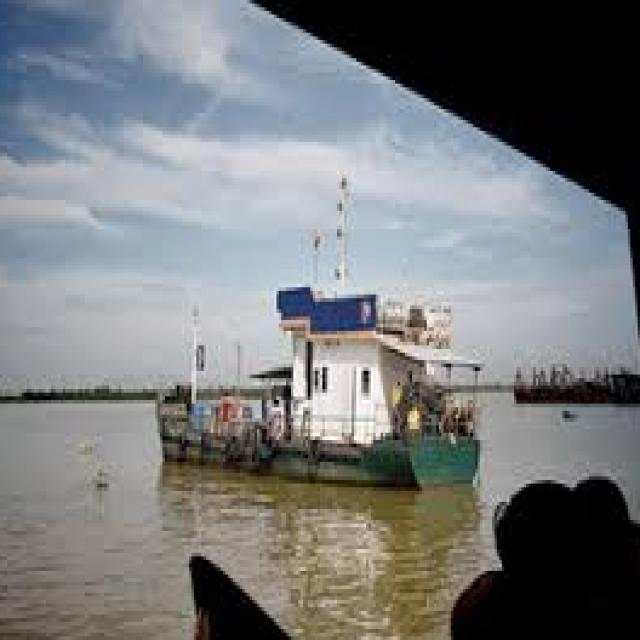fishing boat: (139, 218, 477, 485)
